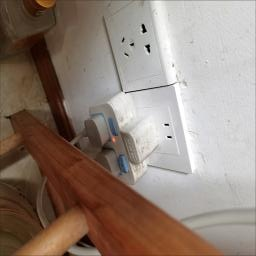outlet: (124, 81, 187, 179), (111, 0, 168, 94)
